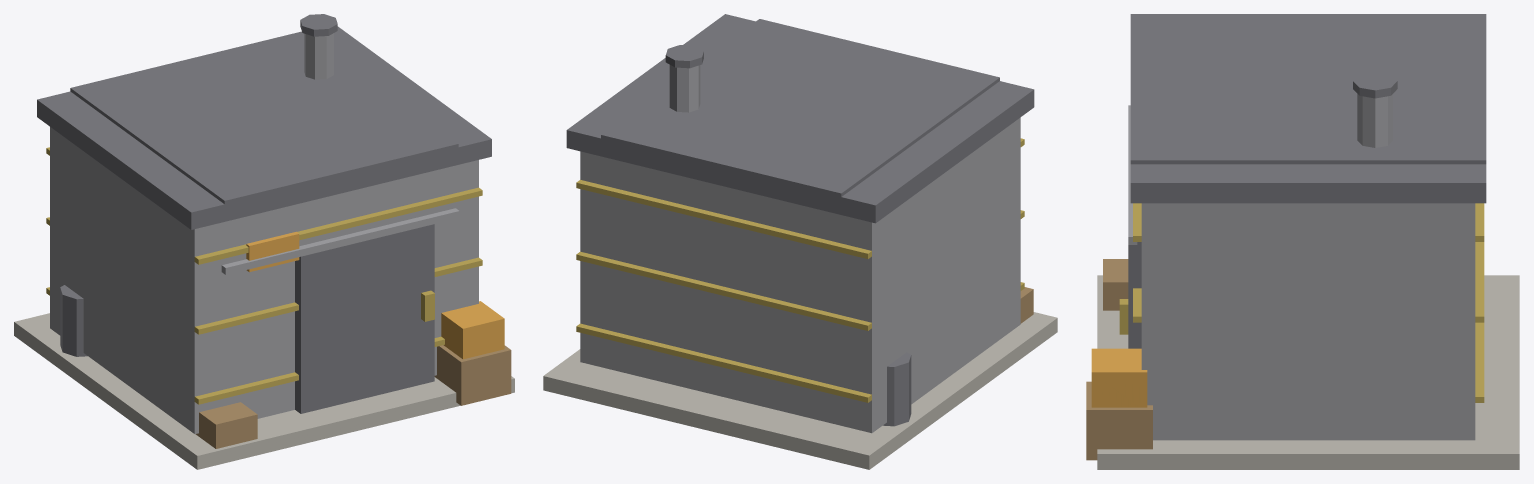
The model's file is warehouse.glb.
3 renders of one model, left to right at view 1: azimuth 30°, elevation 25°; view 2: azimuth 150°, elevation 25°; view 3: azimuth 270°, elevation 25°, orthographic. The views are drawn at different scales.
Visible parts, largest first — view 1: Warehouse; view 2: Warehouse; view 3: Warehouse.
Part boxes in pixels (x1=…): Warehouse: x1=14, y1=14, x2=514, y2=469; Warehouse: x1=543, y1=14, x2=1057, y2=469; Warehouse: x1=1086, y1=14, x2=1519, y2=469.
Size of the model in its own units: 1.9 by 1.72 by 1.95.
